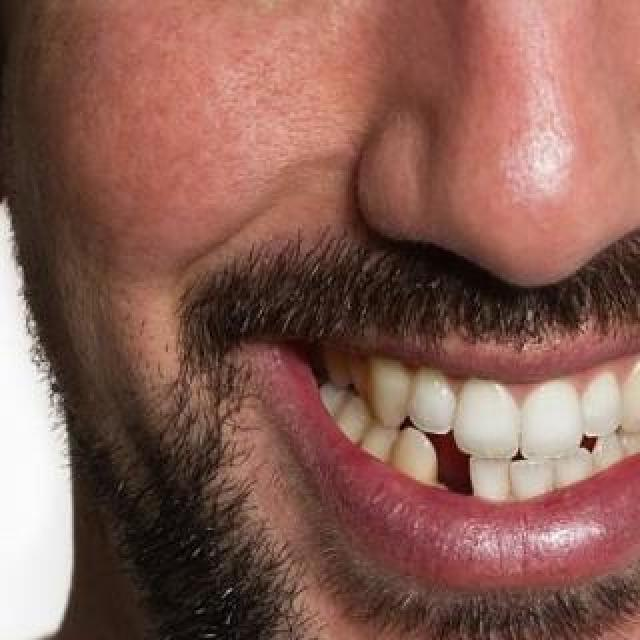maligned: (509, 454, 561, 508)
missing: (430, 434, 482, 496)
